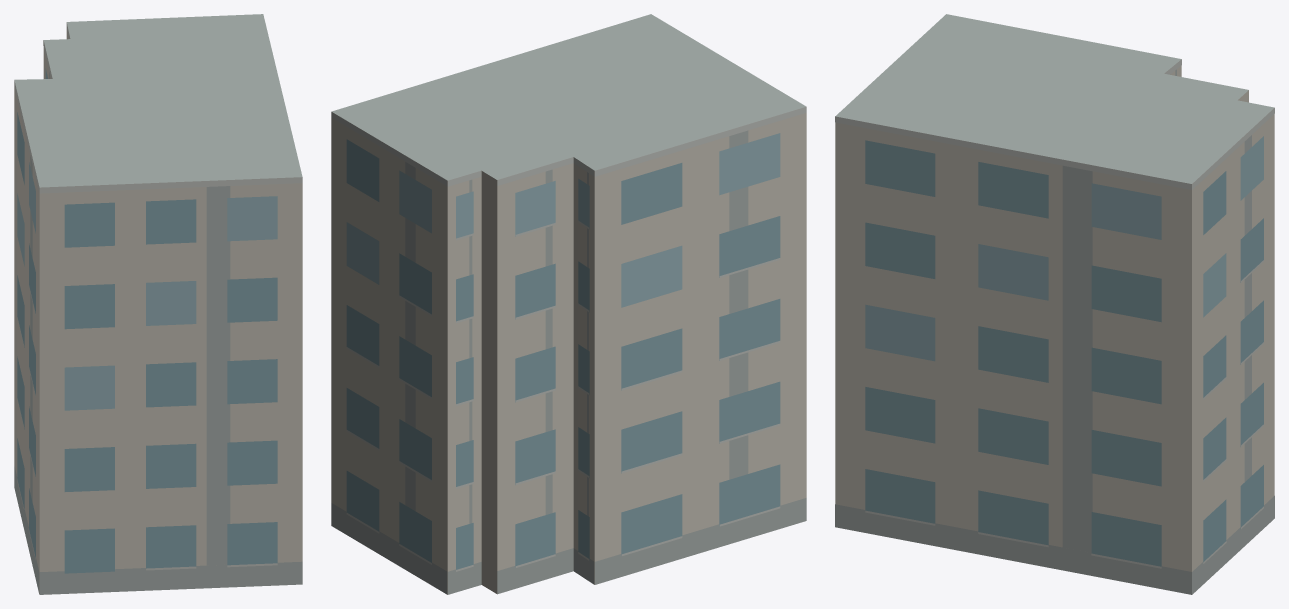
The model's file is survey-upis-32836598.glb.
The picture shows the model from 3 angles, left to right: view 1: azimuth 30°, elevation 25°; view 2: azimuth 150°, elevation 25°; view 3: azimuth 270°, elevation 25°; orthographic projection.
Visible parts, largest first — view 1: survey-upis-32836598.tmp; view 2: survey-upis-32836598.tmp; view 3: survey-upis-32836598.tmp.
Part boxes in pixels (x1,y1,x2,y2): survey-upis-32836598.tmp: (14,14,302,594); survey-upis-32836598.tmp: (331,14,806,594); survey-upis-32836598.tmp: (835,14,1274,594).
Size of the model in its own units: 14.66 by 16.5 by 16.01.
